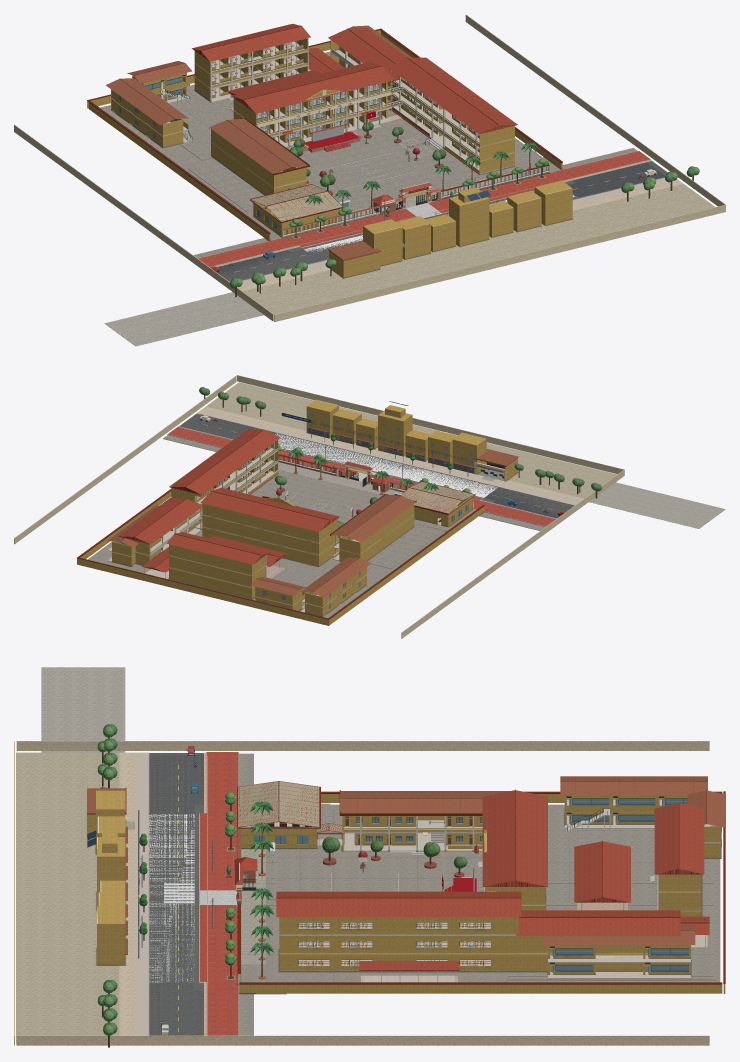
File: KienAn_V75_ChanThuc_VaCham.glb
The picture shows the model from 3 angles, top to bottom: view 1: azimuth 30°, elevation 25°; view 2: azimuth 150°, elevation 25°; view 3: azimuth 270°, elevation 25°; orthographic projection. The views are drawn at different scales.
Visible parts, largest first — view 1: V29_OPPOSITE_OUTER_GROUND, GROUND_COURTYARD, ROAD_back_lot, RIGHT_ROOF, WORLD_EDGE_OPPOSITE, CENTER_ROOF, V48_LEFT_TEACHERS_RED_TILE_ROOF, REAR_COURTYARD_GROUND, WORLD_EDGE_LEFT, WORLD_EDGE_RIGHT, REAR_ROOF, V29_STREET_WALKABLE (+35 smaller); view 2: V29_OPPOSITE_OUTER_GROUND, GROUND_COURTYARD, V29_STREET_WALKABLE, ROAD_back_lot, RIGHT_ROOF, ROAD_road, CENTER_ROOF, WORLD_EDGE_OPPOSITE, V29_OPPOSITE_SIDEWALK_WALKABLE, RIGHT_REAR_2F_ROOF, CAMPUS_PERIMETER_REAR, V48_LEFT_TEACHERS_RED_TILE_ROOF (+37 smaller); view 3: V29_OPPOSITE_OUTER_GROUND, V29_STREET_WALKABLE, GROUND_COURTYARD, REAR_COURTYARD_GROUND, WORLD_EDGE_RIGHT, WORLD_EDGE_LEFT, RIGHT_ROOF, ROAD_back_lot, CENTER_ROOF, CAMPUS_PERIMETER_RIGHT, RIGHT_REAR_2F_ROOF, V29_OPPOSITE_SIDEWALK_WALKABLE (+40 smaller).
Boxes of the visible parts, bbox=[...] form: V29_OPPOSITE_OUTER_GROUND: bbox=[243, 184, 714, 319]; GROUND_COURTYARD: bbox=[187, 118, 507, 212]; ROAD_back_lot: bbox=[104, 292, 263, 346]; RIGHT_ROOF: bbox=[387, 57, 517, 134]; WORLD_EDGE_OPPOSITE: bbox=[274, 204, 725, 321]; CENTER_ROOF: bbox=[231, 62, 393, 113]; V48_LEFT_TEACHERS_RED_TILE_ROOF: bbox=[209, 118, 307, 173]; REAR_COURTYARD_GROUND: bbox=[169, 52, 394, 160]; WORLD_EDGE_LEFT: bbox=[14, 124, 273, 321]; WORLD_EDGE_RIGHT: bbox=[465, 14, 725, 206]; REAR_ROOF: bbox=[192, 23, 310, 61]; V29_STREET_WALKABLE: bbox=[218, 161, 667, 281]; V29_OPPOSITE_OUTER_GROUND: bbox=[206, 382, 616, 498]; GROUND_COURTYARD: bbox=[250, 470, 443, 568]; V29_STREET_WALKABLE: bbox=[179, 414, 573, 517]; ROAD_back_lot: bbox=[589, 482, 725, 528]; RIGHT_ROOF: bbox=[169, 429, 280, 494]; ROAD_road: bbox=[275, 433, 497, 497]; CENTER_ROOF: bbox=[200, 487, 339, 531]; WORLD_EDGE_OPPOSITE: bbox=[237, 375, 624, 475]; V29_OPPOSITE_SIDEWALK_WALKABLE: bbox=[196, 406, 583, 505]; RIGHT_REAR_2F_ROOF: bbox=[118, 497, 202, 544]; CAMPUS_PERIMETER_REAR: bbox=[77, 558, 329, 625]; V48_LEFT_TEACHERS_RED_TILE_ROOF: bbox=[331, 494, 415, 542]; V29_OPPOSITE_OUTER_GROUND: bbox=[16, 752, 119, 1044]; V29_STREET_WALKABLE: bbox=[149, 753, 203, 1035]; GROUND_COURTYARD: bbox=[266, 811, 493, 982]; REAR_COURTYARD_GROUND: bbox=[506, 823, 715, 980]; WORLD_EDGE_RIGHT: bbox=[16, 1035, 709, 1045]; WORLD_EDGE_LEFT: bbox=[16, 741, 709, 750]; RIGHT_ROOF: bbox=[276, 891, 521, 917]; ROAD_back_lot: bbox=[41, 667, 125, 752]; CENTER_ROOF: bbox=[482, 790, 547, 886]; CAMPUS_PERIMETER_RIGHT: bbox=[239, 984, 722, 993]; RIGHT_REAR_2F_ROOF: bbox=[516, 910, 680, 935]; V29_OPPOSITE_SIDEWALK_WALKABLE: bbox=[119, 752, 149, 1035].
Size of the model in its own units: 216 by 17.83 by 169.
Materials: 83 (77 with a texture image).
